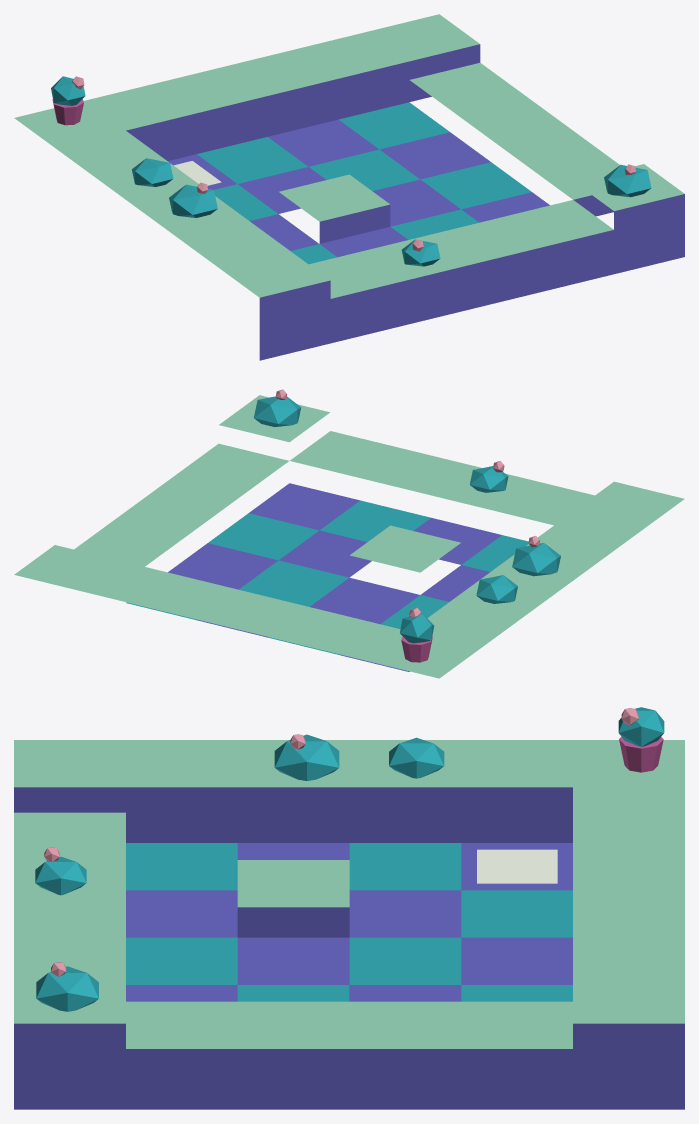
The model's file is room0.glb.
3 renders of one model, top to bottom at view 1: azimuth 30°, elevation 25°; view 2: azimuth 150°, elevation 25°; view 3: azimuth 270°, elevation 25°, orthographic. The views are drawn at different scales.
Visible parts, largest first — view 1: Room, Bush0, Bush1, Bush4, Bush2, PotLeaf3, Pot3; view 2: Room, Bush0, Bush1, Bush4, Bush2, PotLeaf3, Pot3; view 3: Room, Bush0, Bush1, Bush4, Bush2, PotLeaf3, Pot3.
Boxes of the visible parts, box(x1,y1,x2,y2) form: Room: box(14, 14, 684, 360); Bush0: box(169, 184, 217, 217); Bush1: box(604, 164, 651, 197); Bush4: box(132, 158, 173, 186); Bush2: box(401, 239, 440, 266); PotLeaf3: box(51, 76, 85, 105); Pot3: box(52, 99, 83, 125); Room: box(14, 395, 684, 678); Bush0: box(512, 543, 560, 576); Bush1: box(254, 396, 301, 426); Bush4: box(476, 575, 517, 603); Bush2: box(469, 466, 508, 492); PotLeaf3: box(400, 613, 434, 643); Pot3: box(401, 636, 432, 662); Room: box(14, 740, 684, 1109); Bush0: box(274, 734, 339, 780); Bush1: box(36, 966, 98, 1011); Bush4: box(389, 737, 444, 778); Bush2: box(35, 856, 86, 895); PotLeaf3: box(618, 707, 664, 746); Pot3: box(619, 737, 663, 772).
Size of the model in its own units: 6 by 1.45 by 6.
